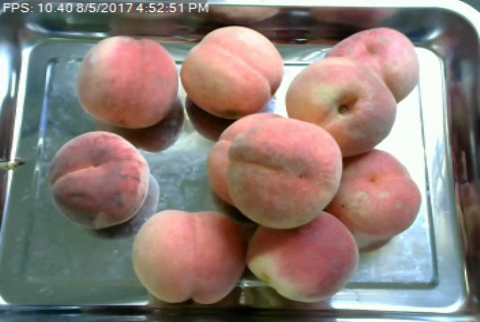Peach: (226, 119, 343, 230), (132, 207, 252, 303), (285, 60, 399, 158), (246, 210, 358, 303), (49, 130, 150, 229), (181, 25, 283, 118), (78, 36, 181, 128), (327, 146, 422, 245), (324, 27, 419, 105)
